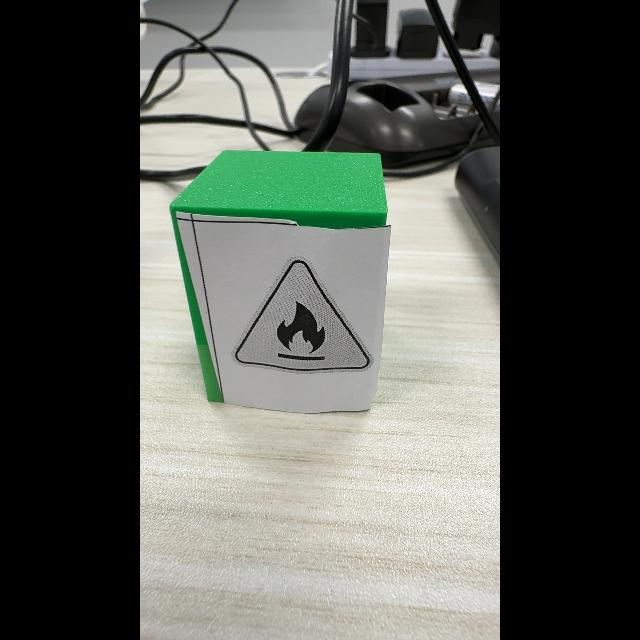Fire: (234, 259, 372, 373)
